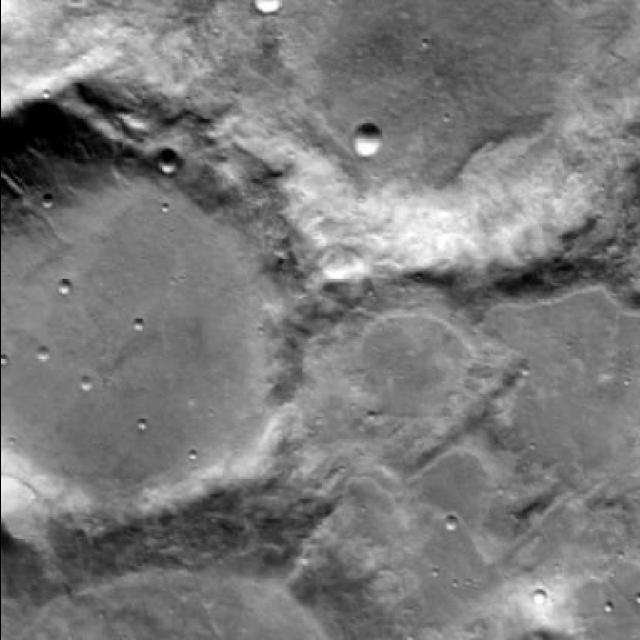crater: (0, 95, 297, 556), (353, 126, 382, 158), (155, 147, 179, 175), (251, 0, 283, 13)
